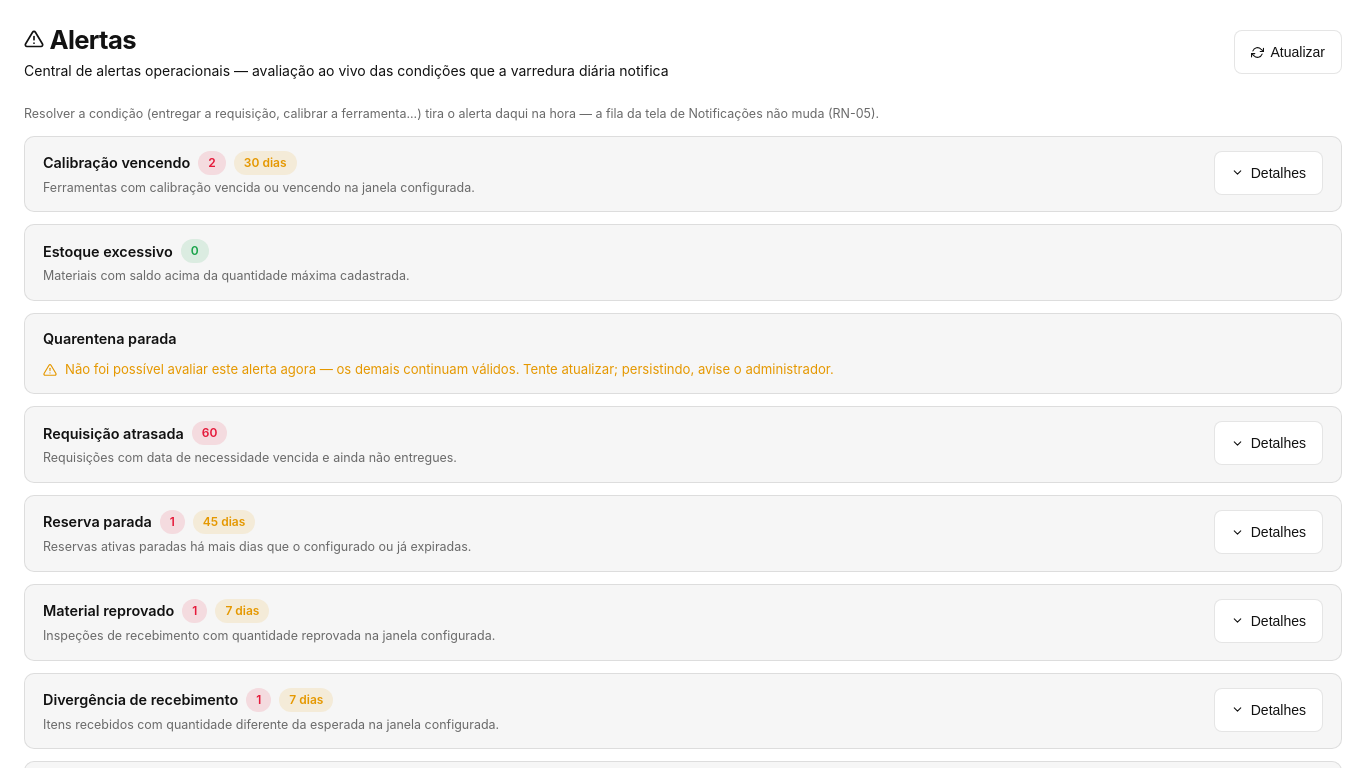
expandir o cartao mostra as linhas cruas da condicao
Click the button "Detalhes" in the row of "60" at (1268, 443), box [1214,421,1323,465]
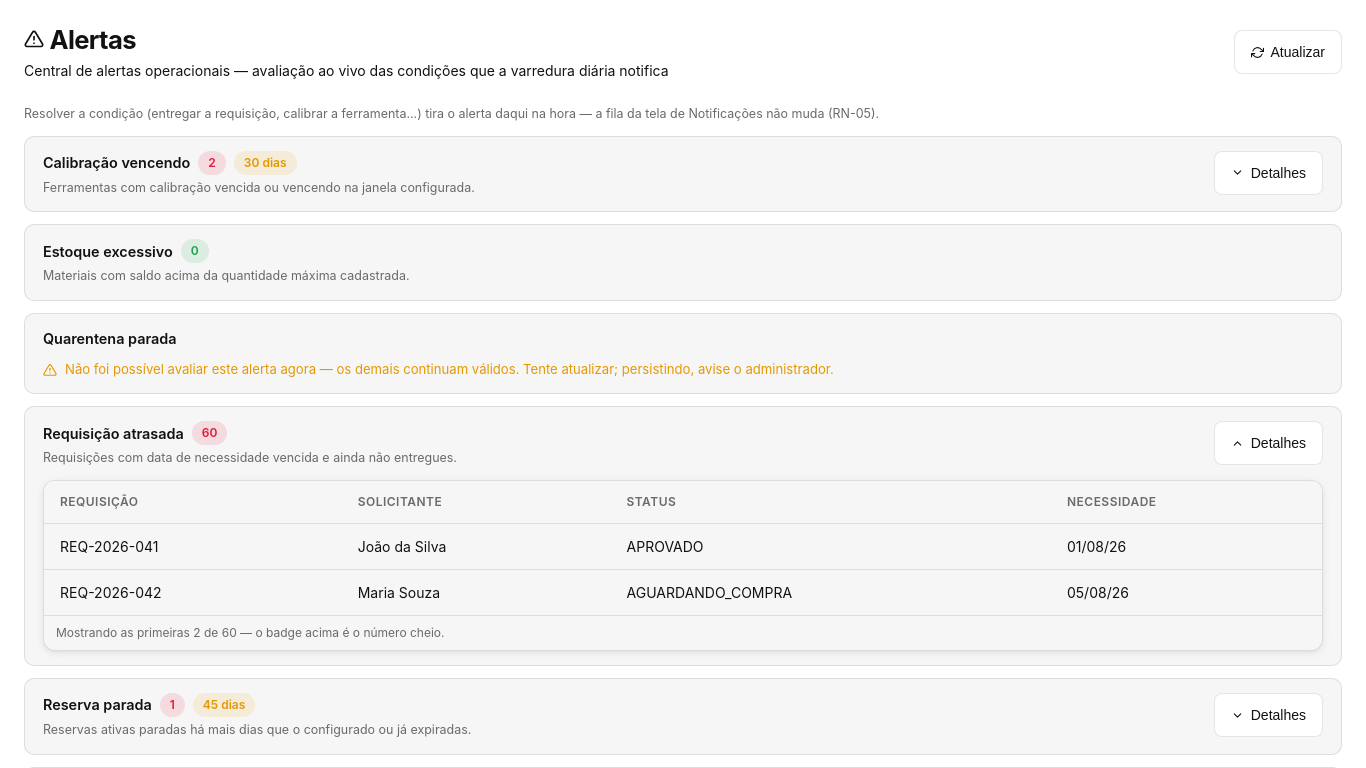
Expected: the text "REQ-2026-041" is shown, [44,524,342,570]
Expected: the text "João da Silva" is shown, [342,524,610,570]
Expected: the text "REQ-2026-042" is shown, [44,570,342,616]
